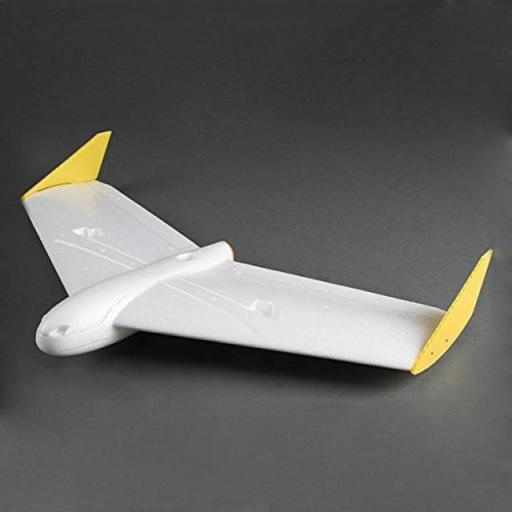uav: (6, 129, 500, 423)
